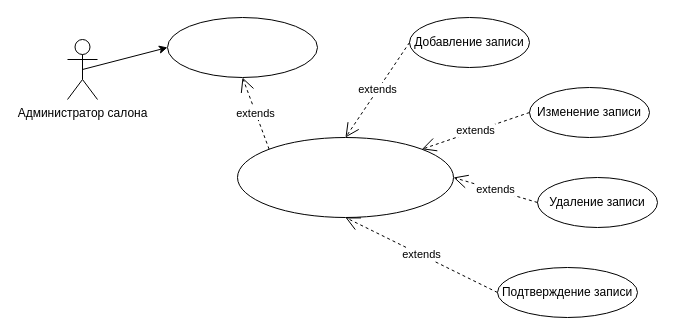
The diagram is 675 pixels wide and 335 high, and some of its shapes have lost their labels. The shapes that lost their labels are listed below. From the top down, each one's centre as x and y in pixels, then its label:
At point 242,47: "Авторизация клиента".
At point 345,177: "Предварительная запись клиента".
